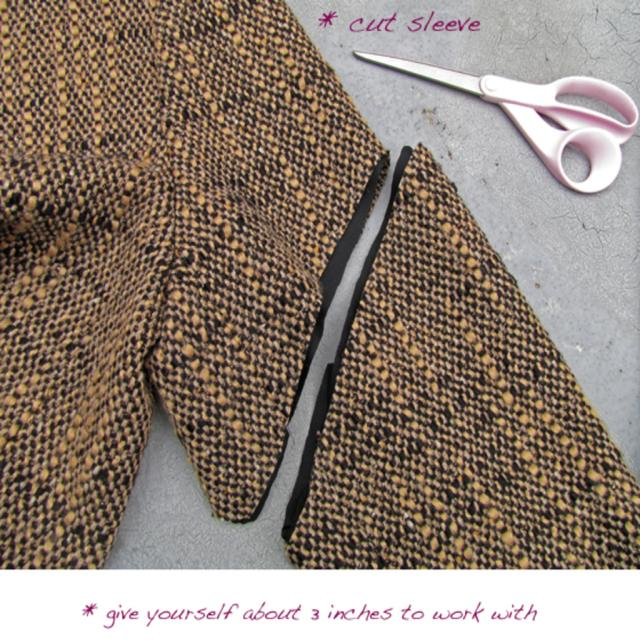scissors: (352, 49, 639, 194)
